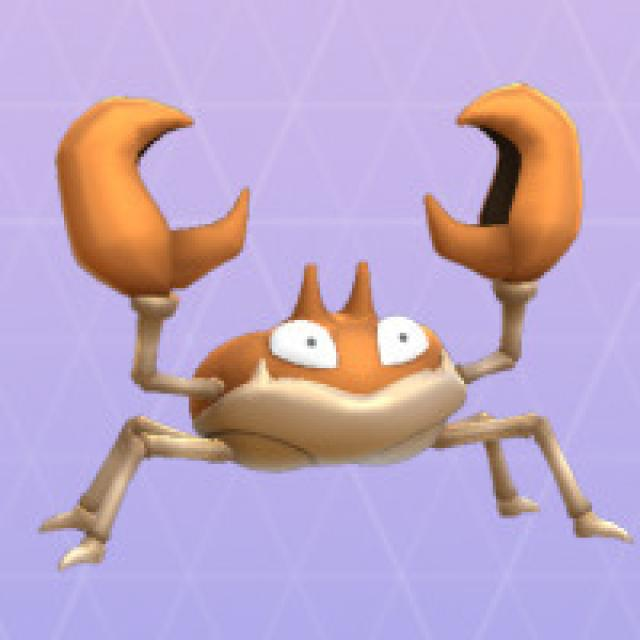Krabby: (56, 90, 584, 538)
